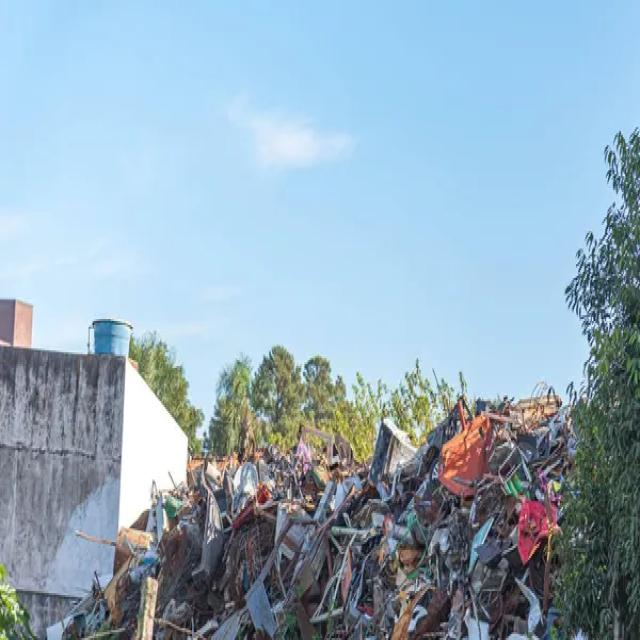garbage: (114, 351, 569, 625)
